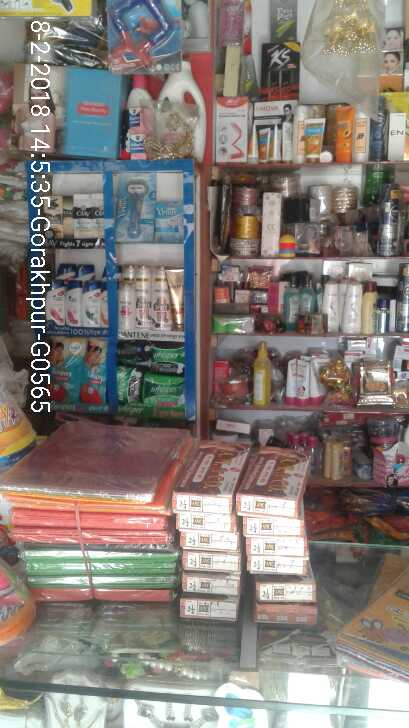venus: (117, 173, 154, 242), (154, 204, 182, 242)
